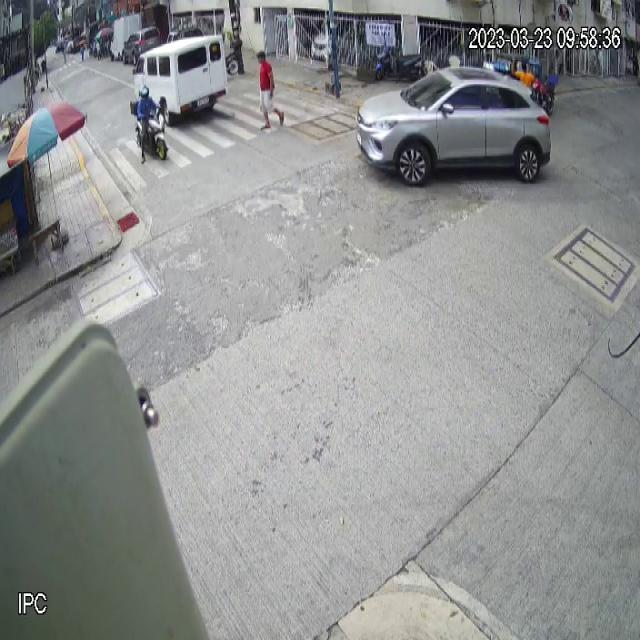Car: (356, 64, 552, 188)
Motorcycle: (130, 100, 169, 161)
Van: (133, 34, 230, 125)
